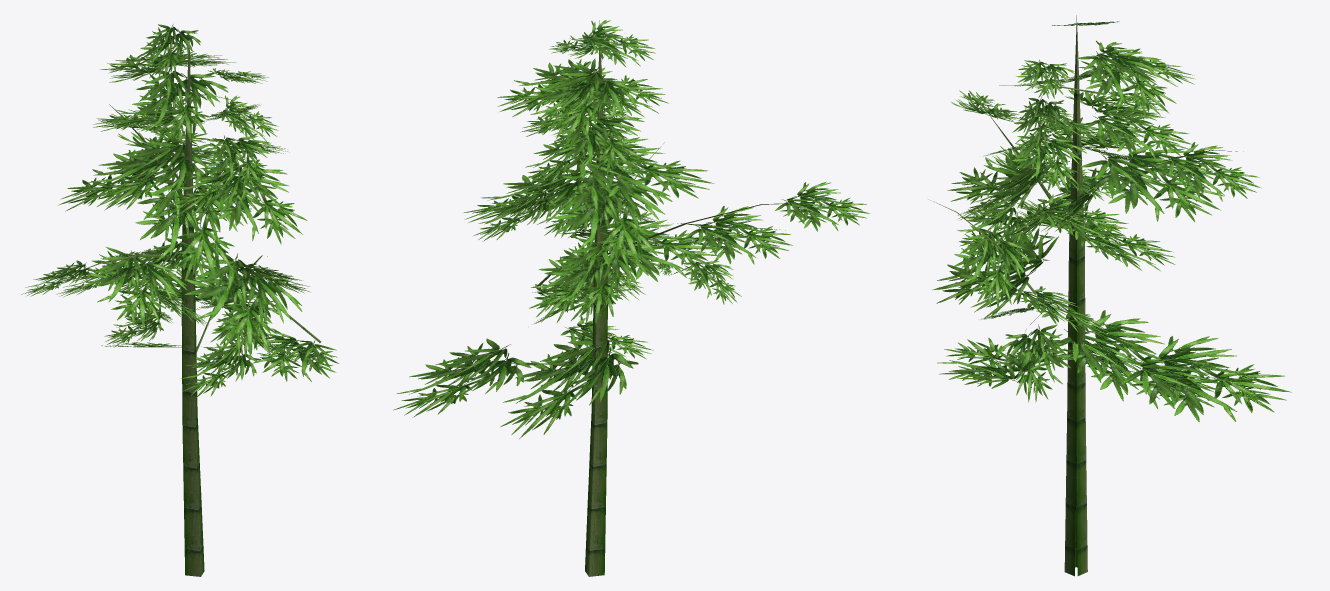
File: xs_Item_zhuzi_1.FBX
3 renders of one model, left to right at view 1: azimuth 30°, elevation 25°; view 2: azimuth 150°, elevation 25°; view 3: azimuth 270°, elevation 25°, orthographic.
Visible parts, largest first — view 1: xs_Item_zhuzi_1; view 2: xs_Item_zhuzi_1; view 3: xs_Item_zhuzi_1.
Part boxes in pixels (x1,y1,x2,y2): xs_Item_zhuzi_1: [21, 24, 339, 576]; xs_Item_zhuzi_1: [393, 20, 870, 576]; xs_Item_zhuzi_1: [928, 15, 1291, 576].
Bounding box in the file's own units: 435 × 612 × 403.
